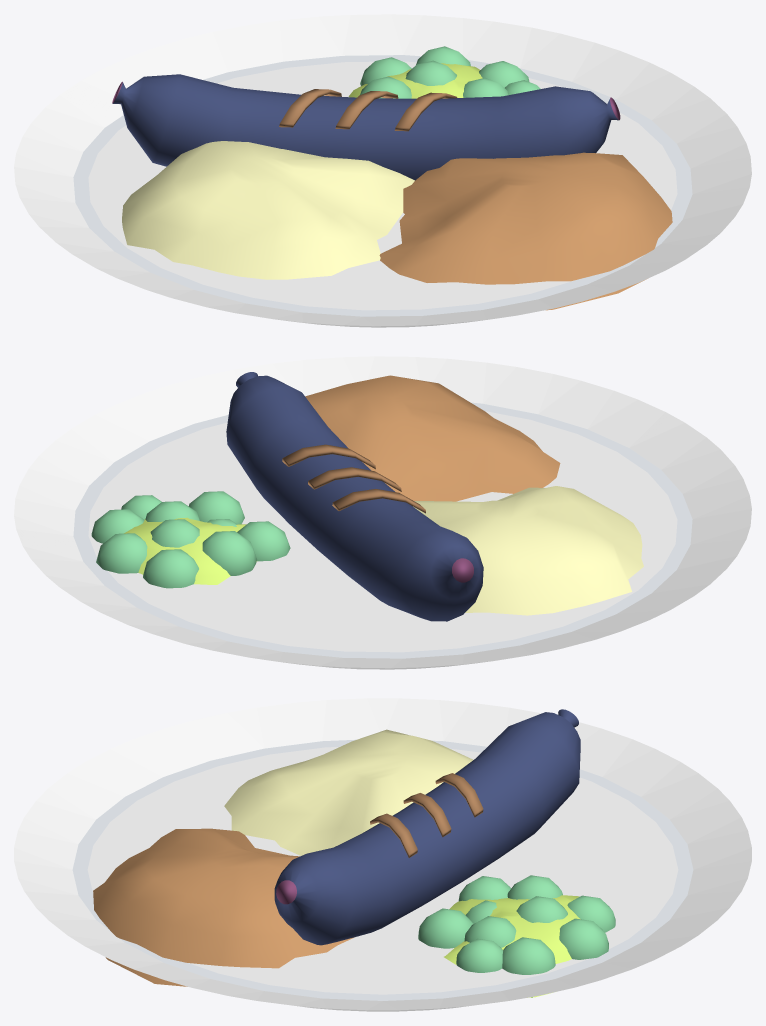
The model's file is PlatedSausage.fbx.
3 views of the same model, one above another, from view 1: azimuth 30°, elevation 25°; view 2: azimuth 150°, elevation 25°; view 3: azimuth 270°, elevation 25° (orthographic).
Visible parts, largest first — view 1: Plate.001, Gravy, SausageBody.002, Mash, Peas.008, SausageGrillMarks.001, PeasBroth.001; view 2: Plate.001, SausageBody.002, Gravy, Mash, Peas.008, SausageGrillMarks.001, PeasBroth.001; view 3: Plate.001, SausageBody.002, Gravy, Mash, Peas.008, PeasBroth.001, SausageGrillMarks.001.
Part boxes in pixels (bbox=[...]): Plate.001: bbox=[14, 14, 751, 327]; Gravy: bbox=[379, 152, 672, 310]; SausageBody.002: bbox=[112, 74, 620, 180]; Mash: bbox=[122, 141, 414, 279]; Peas.008: bbox=[360, 46, 540, 98]; SausageGrillMarks.001: bbox=[279, 89, 457, 131]; PeasBroth.001: bbox=[348, 63, 482, 98]; Plate.001: bbox=[14, 356, 751, 669]; SausageBody.002: bbox=[226, 372, 483, 621]; Gravy: bbox=[305, 375, 560, 501]; Mash: bbox=[413, 486, 643, 615]; Peas.008: bbox=[91, 491, 290, 588]; SausageGrillMarks.001: bbox=[282, 444, 425, 513]; PeasBroth.001: bbox=[124, 517, 256, 584]; Plate.001: bbox=[14, 698, 751, 1011]; SausageBody.002: bbox=[274, 709, 580, 945]; Gravy: bbox=[93, 828, 354, 986]; Mash: bbox=[224, 729, 473, 855]; Peas.008: bbox=[418, 875, 615, 997]; PeasBroth.001: bbox=[444, 895, 580, 997]; SausageGrillMarks.001: bbox=[370, 773, 483, 857].
Size of the model in its own units: 56.9 by 10.17 by 56.9.
